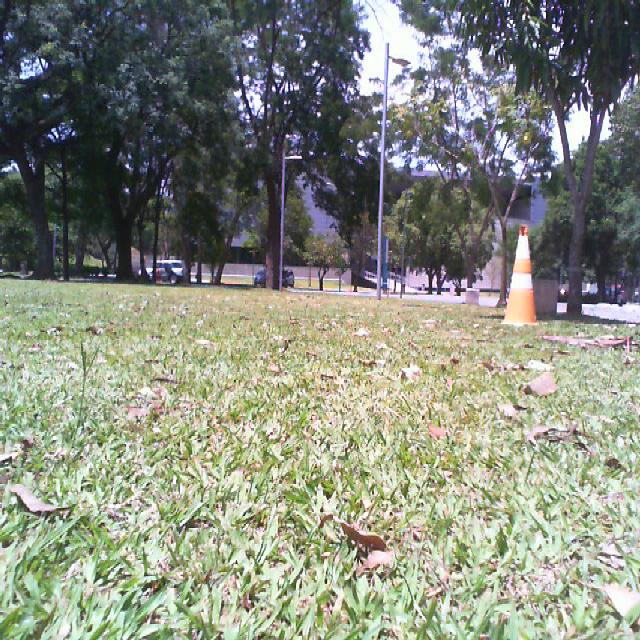cone: (502, 224, 536, 325)
